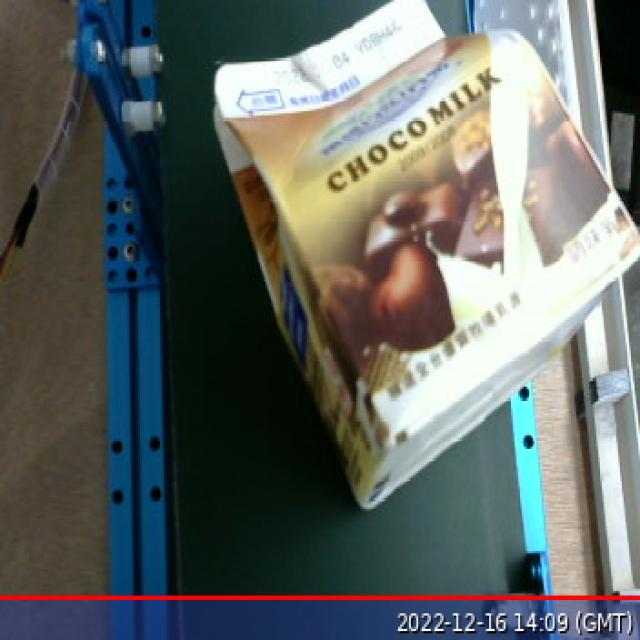non_white_jug: (202, 0, 640, 529)
